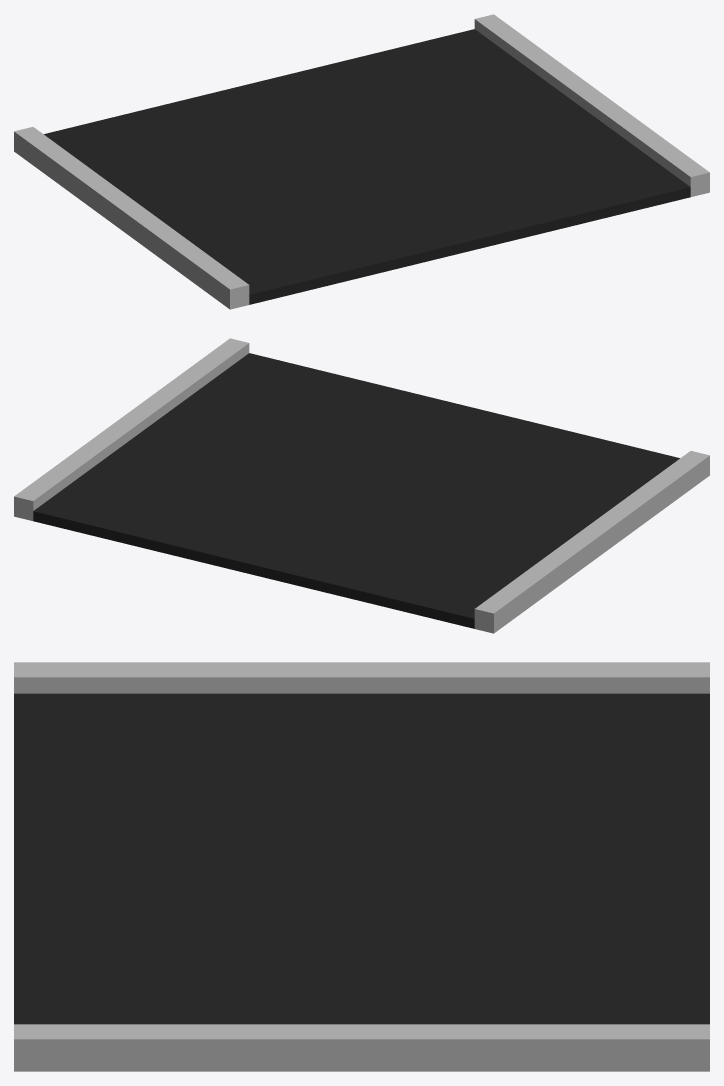
Rendered from All-14-road_1m.obj.
3 views of the same model, one above another, from view 1: azimuth 30°, elevation 25°; view 2: azimuth 150°, elevation 25°; view 3: azimuth 270°, elevation 25° (orthographic). The views are drawn at different scales.
Visible parts, largest first — view 1: road_1m; view 2: road_1m; view 3: road_1m.
Part boxes in pixels (box(x1,y1,x2,y2)): road_1m: box(14, 14, 709, 309); road_1m: box(14, 338, 709, 633); road_1m: box(14, 662, 709, 1071).
Size of the model in its own units: 5 by 0.2 by 3.9.
Materials: 1 (1 with a texture image).
